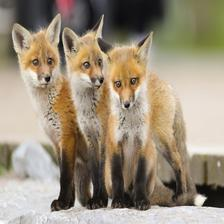fox: (99, 24, 167, 216), (6, 11, 70, 211), (52, 9, 114, 203)
